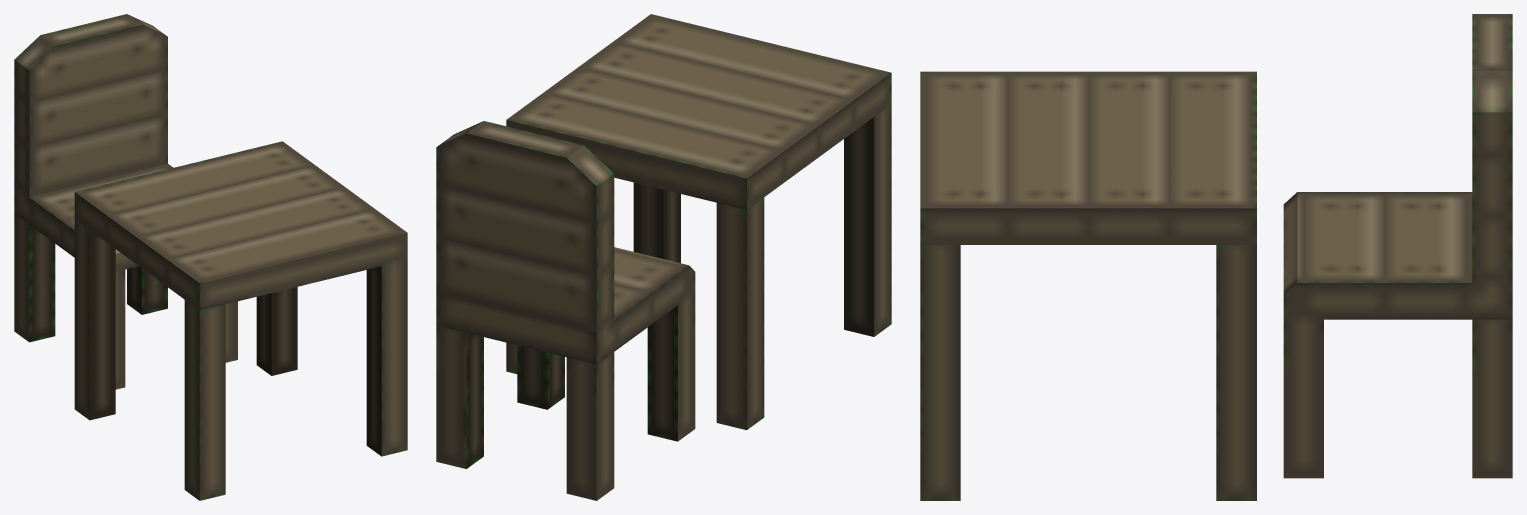
The model's file is Table.fbx.
3 views of the same model, side by side, from view 1: azimuth 30°, elevation 25°; view 2: azimuth 150°, elevation 25°; view 3: azimuth 270°, elevation 25° (orthographic). The views are drawn at different scales.
Visible parts, largest first — view 1: Table, Chair; view 2: Table, Chair; view 3: Table, Chair.
Boxes of the visible parts, left/top/right/bottom form: Table: left=74, top=141, right=407, bottom=500; Chair: left=14, top=14, right=237, bottom=389; Table: left=506, top=14, right=891, bottom=430; Chair: left=436, top=121, right=695, bottom=500; Table: left=920, top=71, right=1256, bottom=500; Chair: left=1283, top=14, right=1512, bottom=478.
Size of the model in its own units: 75 by 100 by 138.
